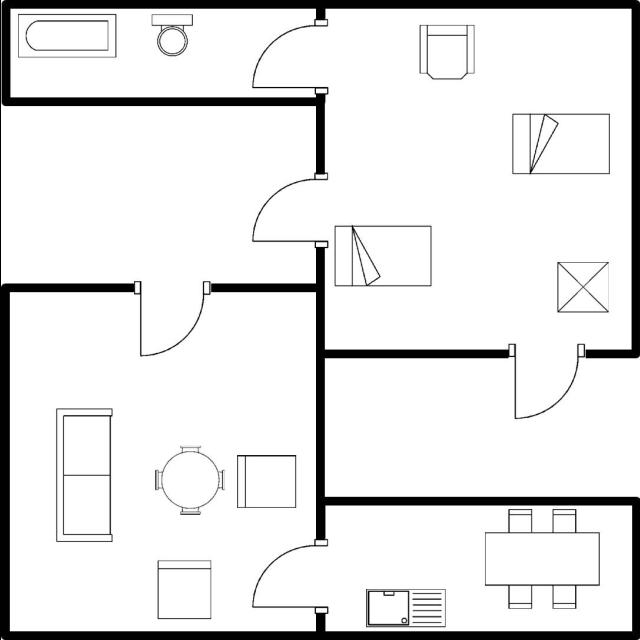armchair: (413, 21, 479, 86)
bed: (507, 106, 613, 180), (330, 220, 436, 290)
coffee_table: (552, 256, 614, 316)
dining_table: (479, 506, 603, 613)
large_sofa: (49, 402, 118, 548)
sink: (360, 582, 450, 630)
small_sofa: (230, 448, 300, 512), (153, 556, 215, 622)
